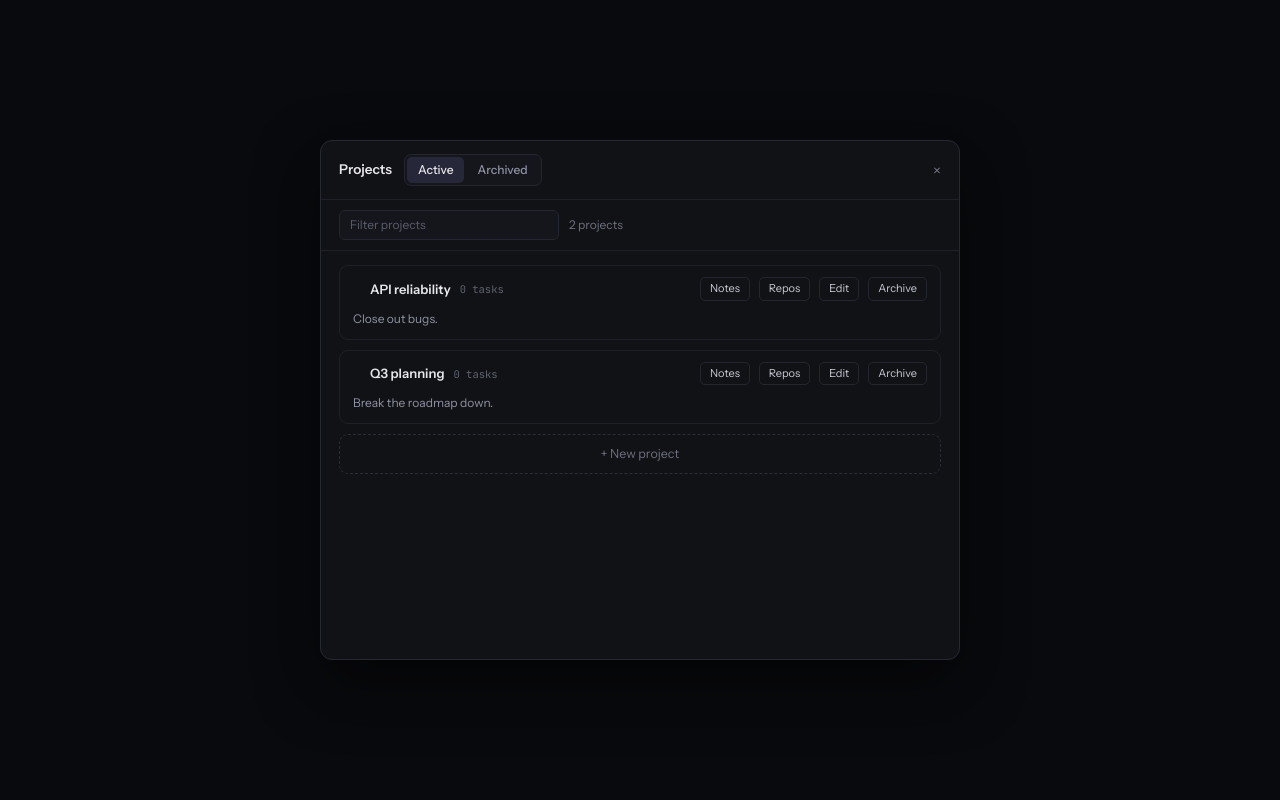
Test case: the project notes editor › opens the notes of the project whose button was pressed
Click the button "Notes" in the row of "API reliability": click(725, 289) [700,277,750,301]
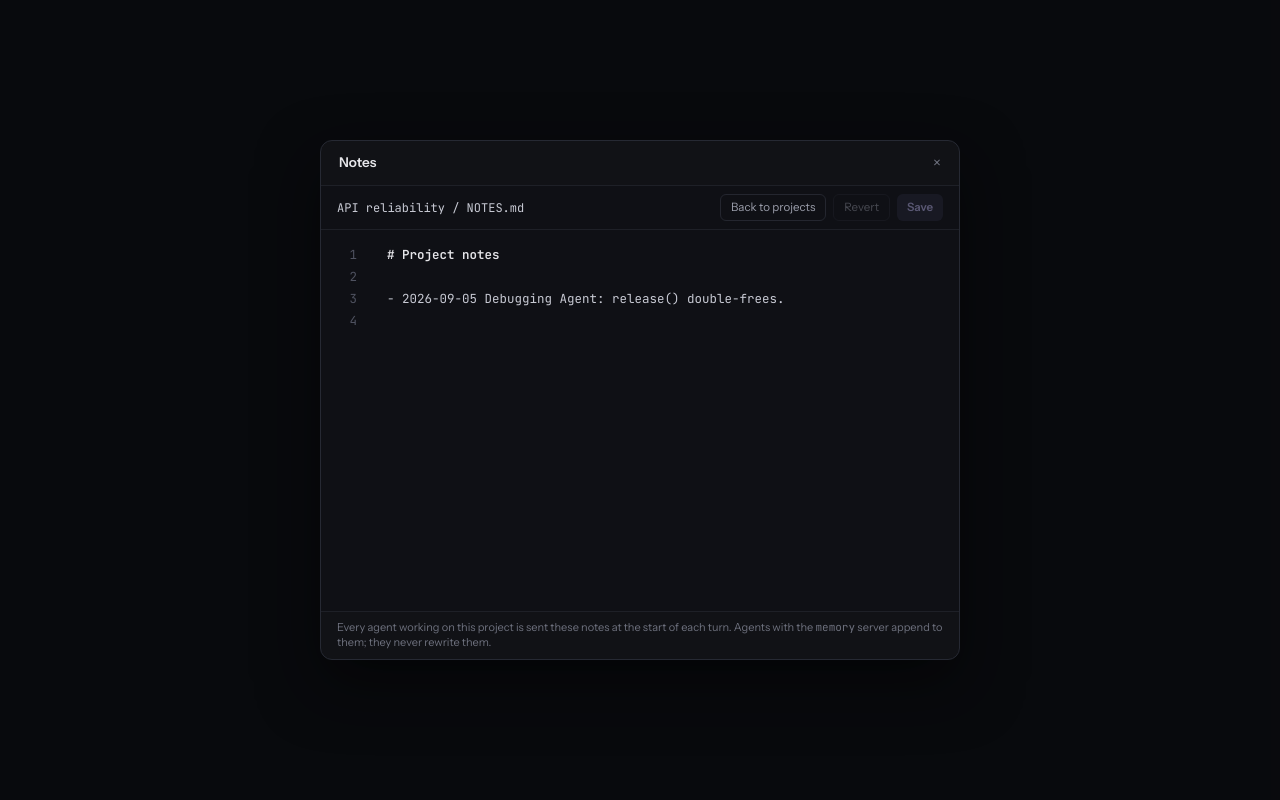
Expected: the text box named "Project notes" is shown, [367,230,959,346]
